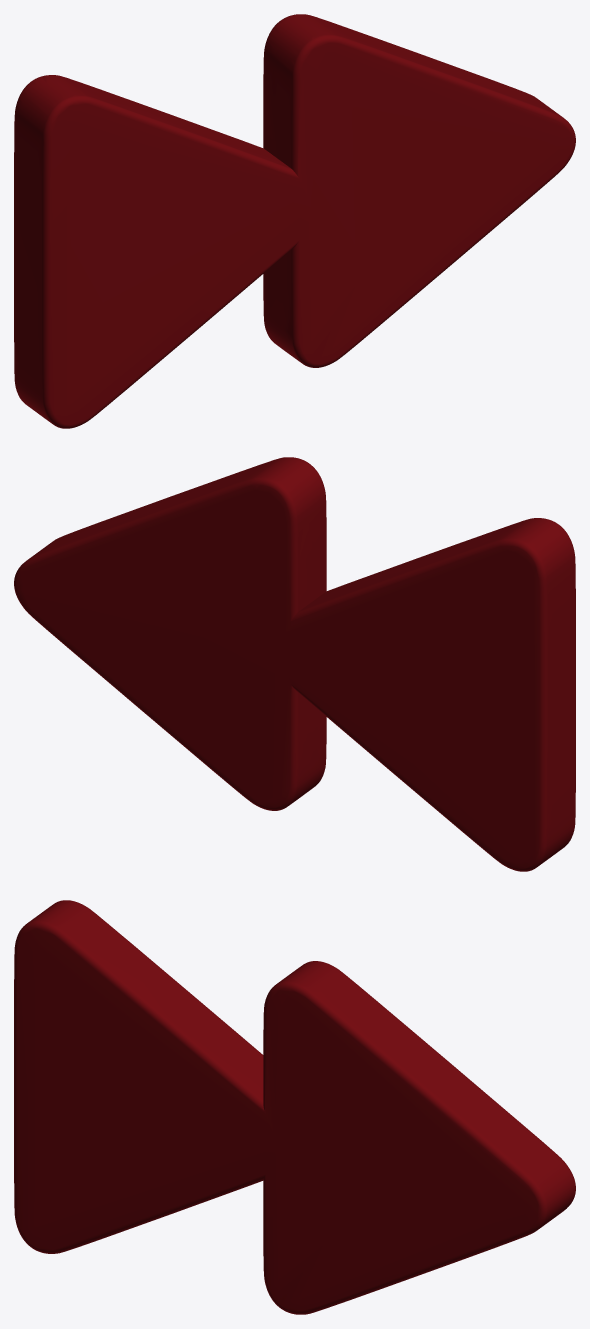
File: forward.glb
The picture shows the model from 3 angles, top to bottom: view 1: azimuth 30°, elevation 25°; view 2: azimuth 150°, elevation 25°; view 3: azimuth 330°, elevation 25°; orthographic projection.
Parts seen in each view (by area): view 1: Circle.001; view 2: Circle.001; view 3: Circle.001.
Part boxes in pixels (<box>): Circle.001: <box>14,14,575,428</box>; Circle.001: <box>14,457,575,871</box>; Circle.001: <box>14,900,575,1314</box>.
Size of the model in its own units: 1.94 by 1.15 by 0.2139.
